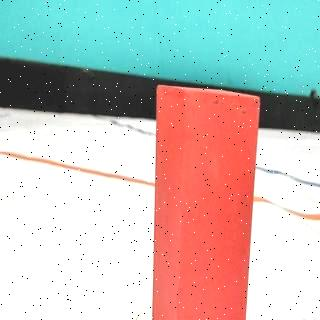redbox: (153, 82, 260, 320)
